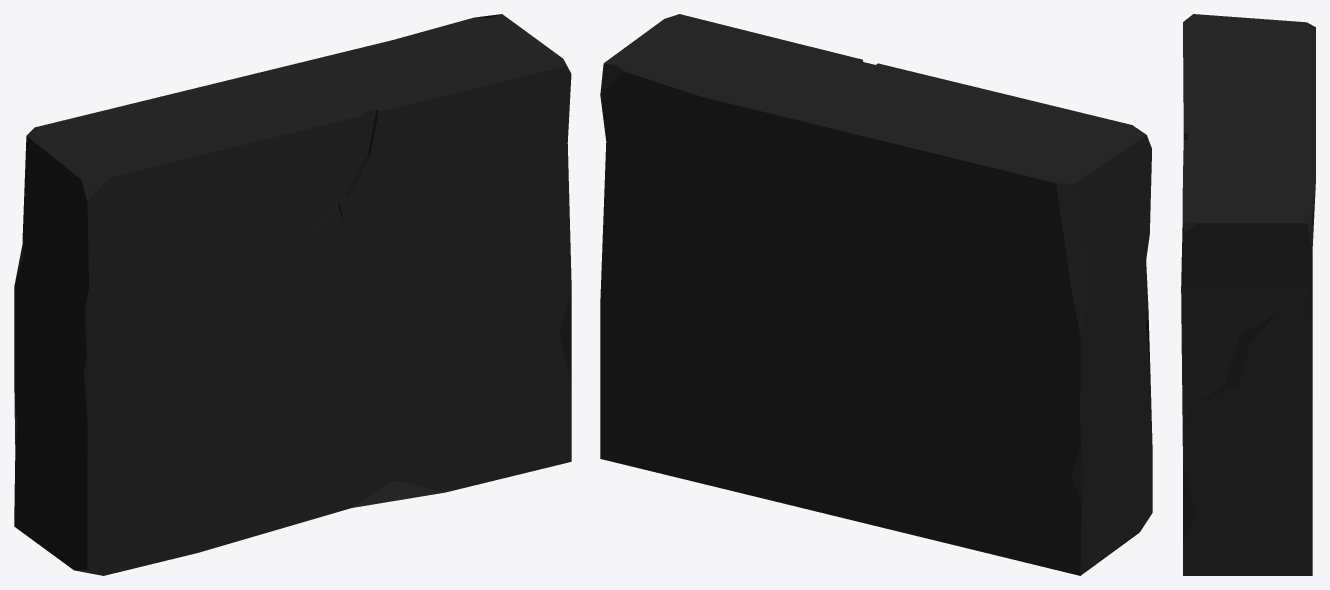
The model's file is wall_with_crack.gltf.
The picture shows the model from 3 angles, left to right: view 1: azimuth 30°, elevation 25°; view 2: azimuth 150°, elevation 25°; view 3: azimuth 270°, elevation 25°; orthographic projection. The views are drawn at different scales.
Visible parts, largest first — view 1: Cube; view 2: Cube; view 3: Cube.
Part boxes in pixels (x1,y1,x2,y2): Cube: [14, 14, 571, 575]; Cube: [600, 14, 1152, 575]; Cube: [1181, 14, 1315, 575].
Size of the model in its own units: 3.85 by 3 by 1.04.
Materials: 1 (1 with a texture image).
